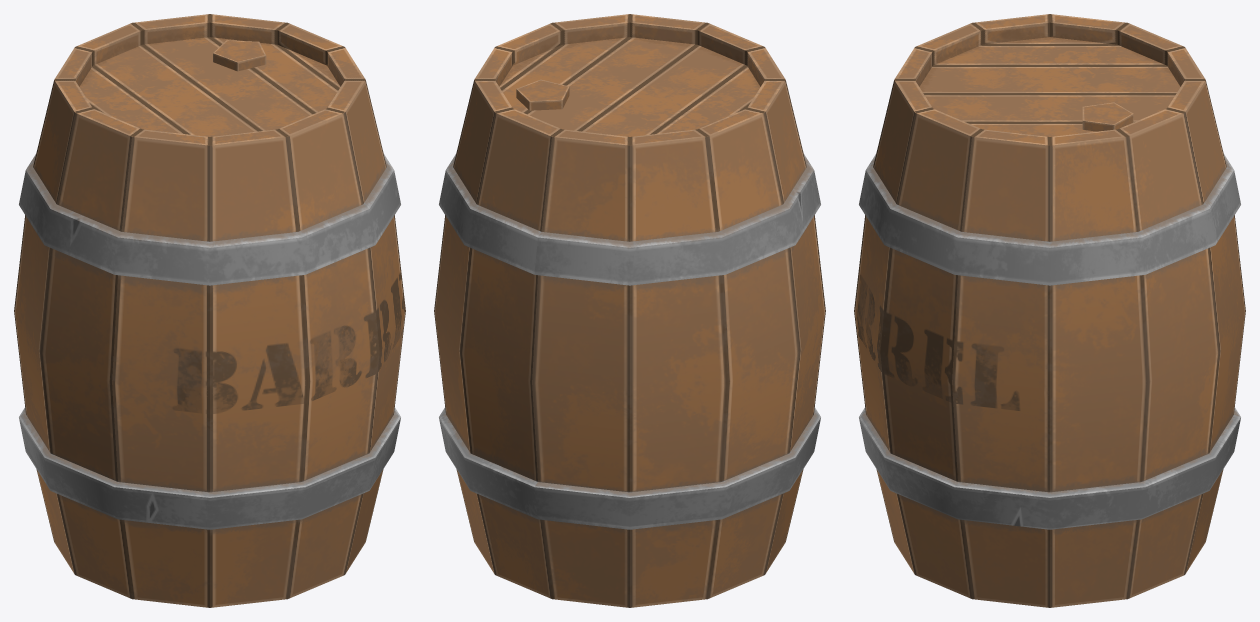
Rendered from Barrel.fbx.
3 views of the same model, side by side, from view 1: azimuth 30°, elevation 25°; view 2: azimuth 150°, elevation 25°; view 3: azimuth 270°, elevation 25° (orthographic).
Parts seen in each view (by area): view 1: Barrel; view 2: Barrel; view 3: Barrel.
Part boxes in pixels (x1=…): Barrel: x1=14, y1=14, x2=405, y2=607; Barrel: x1=434, y1=14, x2=825, y2=607; Barrel: x1=854, y1=14, x2=1245, y2=607.
Bounding box in the file's own units: 69.15 × 90 × 69.15.
Materials: 1 (1 with a texture image).
